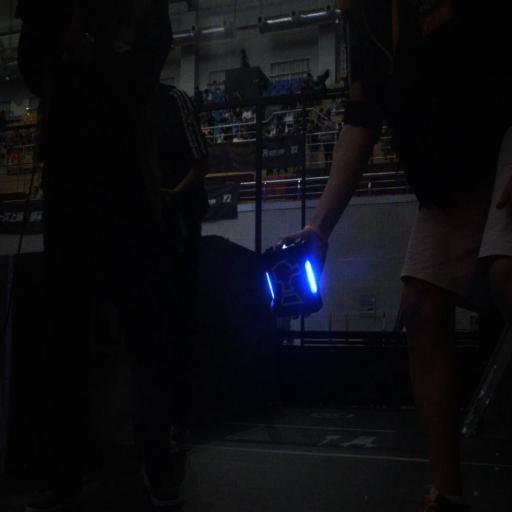target: (263, 248, 323, 317)
